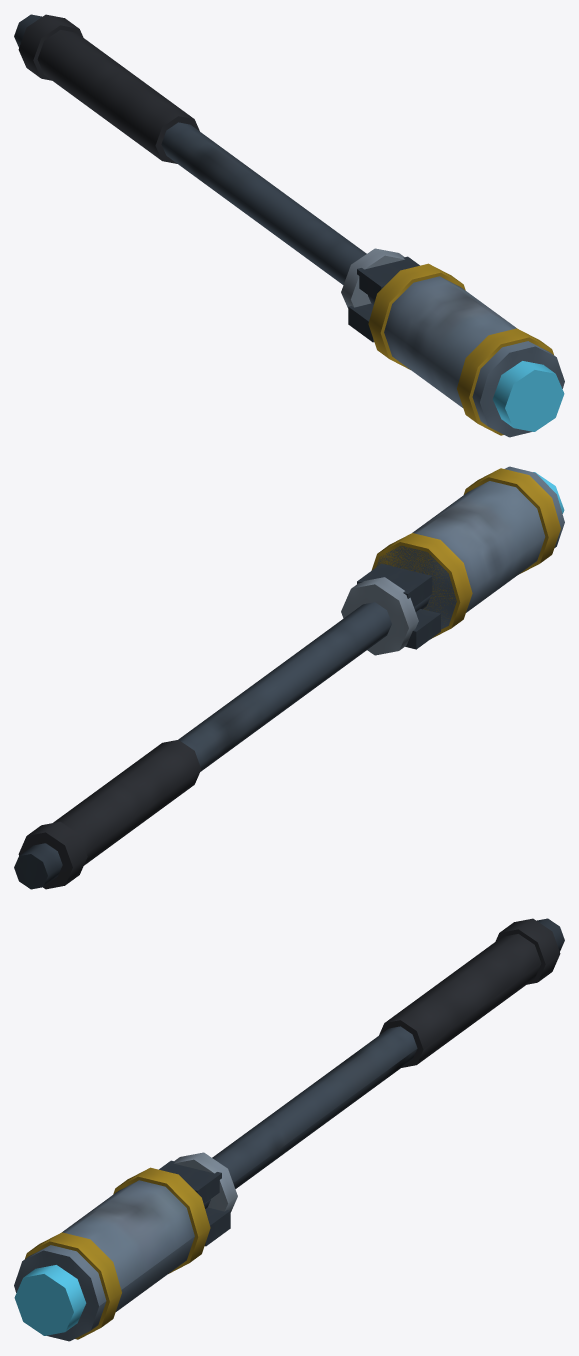
The picture shows the model from 3 angles, top to bottom: view 1: azimuth 30°, elevation 25°; view 2: azimuth 150°, elevation 25°; view 3: azimuth 330°, elevation 25°; orthographic projection.
Parts seen in each view (by area): view 1: dweller_weapon_club; view 2: dweller_weapon_club; view 3: dweller_weapon_club.
Part boxes in pixels (x1=…): dweller_weapon_club: x1=14, y1=14, x2=564, y2=437; dweller_weapon_club: x1=14, y1=466, x2=564, y2=889; dweller_weapon_club: x1=14, y1=918, x2=564, y2=1341.
Bounding box in the file's own units: 0.108 × 0.1027 × 1.02.
Materials: 6 (6 with a texture image).
